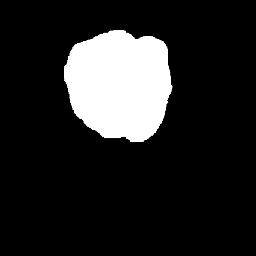mass: (67, 29, 173, 139)
